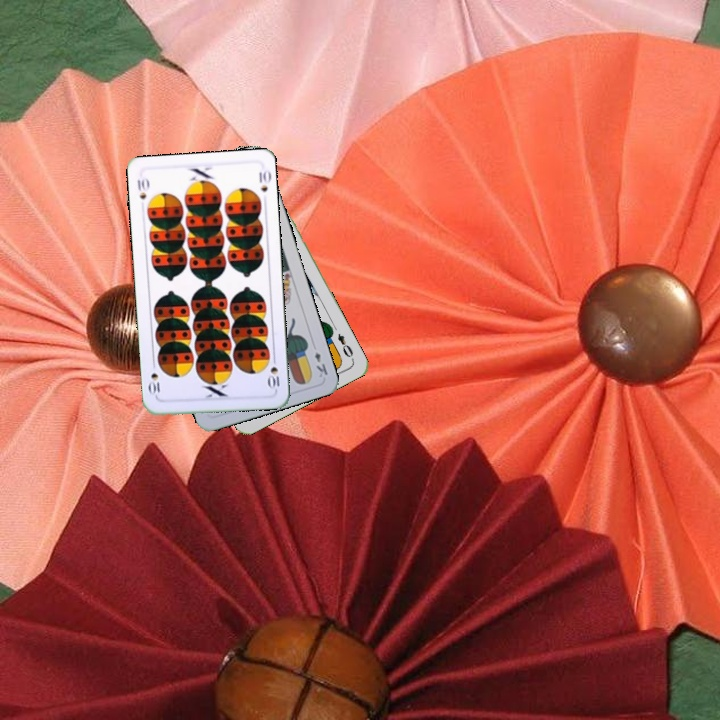EK: (310, 348, 330, 380)
EO: (333, 329, 355, 360)
S10: (265, 352, 282, 392), (133, 174, 151, 202)
